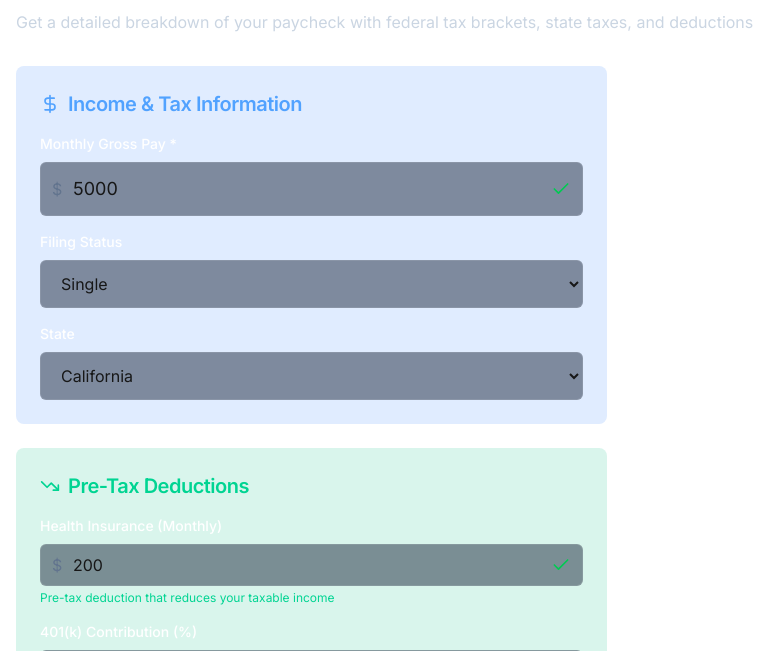
PaycheckCalculator › validates health insurance input
// Test invalid input (too high)
Type "3000" into the number field labelled "Health Insurance (Monthly)" at (312, 565), box x1=40 y1=544 x2=583 y2=586
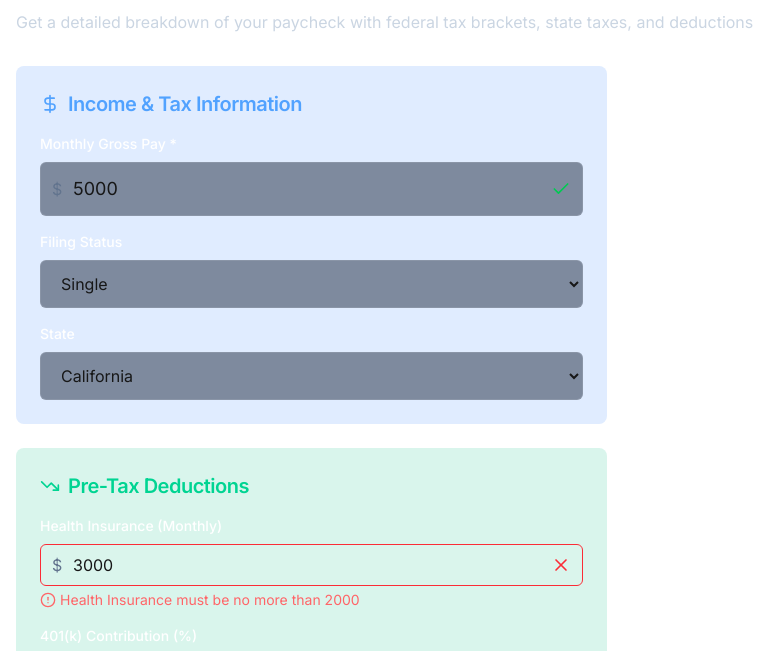
Check: the text "Health Insurance must be no more than 2000" is shown, box x1=40 y1=591 x2=360 y2=608
